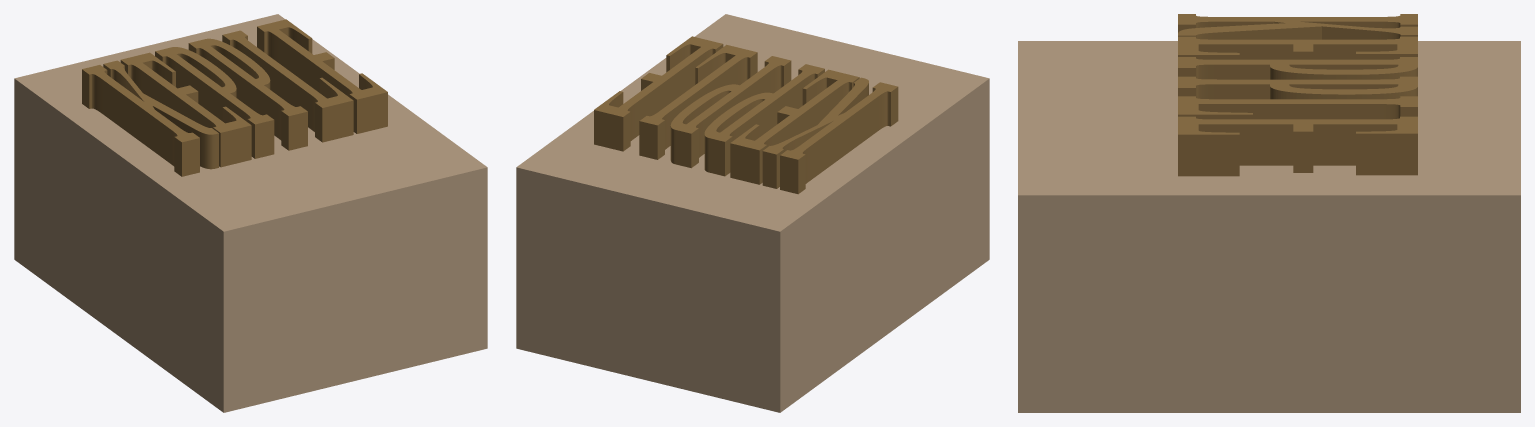
File: caja.glb
The picture shows the model from 3 angles, left to right: view 1: azimuth 30°, elevation 25°; view 2: azimuth 150°, elevation 25°; view 3: azimuth 270°, elevation 25°; orthographic projection. The views are drawn at different scales.
Parts seen in each view (by area): view 1: Mesh_Mesh_head_geo.001_lambert2SG.001; view 2: Mesh_Mesh_head_geo.001_lambert2SG.001; view 3: Mesh_Mesh_head_geo.001_lambert2SG.001.
Part boxes in pixels (box(x1,y1,x2,y2)): Mesh_Mesh_head_geo.001_lambert2SG.001: box(14, 14, 487, 412); Mesh_Mesh_head_geo.001_lambert2SG.001: box(516, 14, 989, 412); Mesh_Mesh_head_geo.001_lambert2SG.001: box(1018, 14, 1520, 412).
Size of the model in its own units: 0.032 by 0.025 by 0.044.
